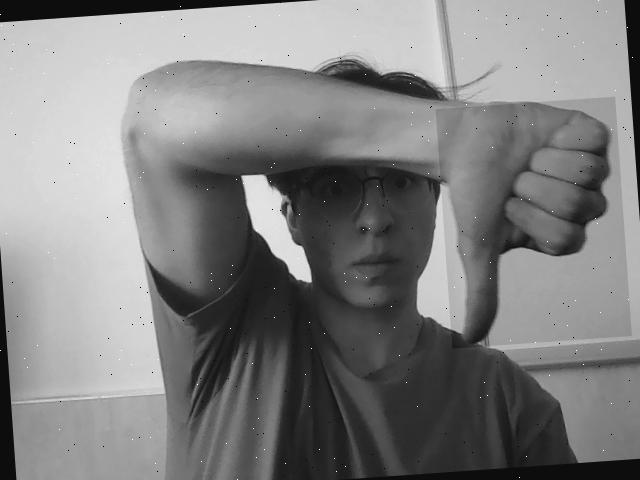bad: (436, 96, 632, 348)
